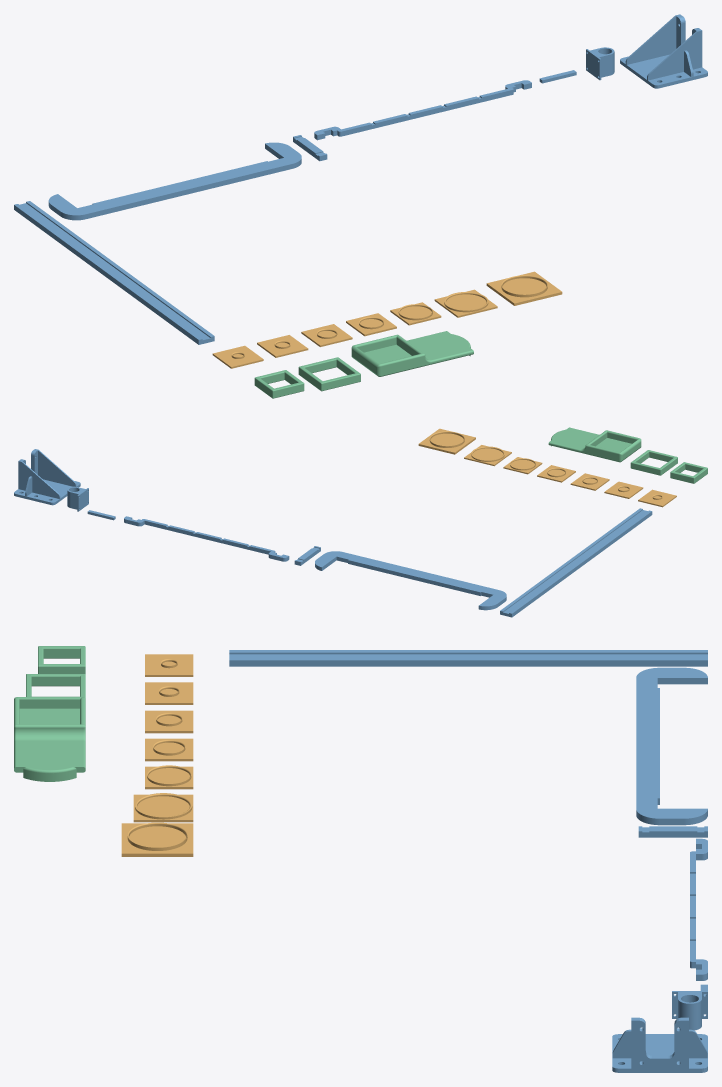
The model's file is wearmachine-parts.glb.
3 renders of one model, top to bottom at view 1: azimuth 30°, elevation 25°; view 2: azimuth 150°, elevation 25°; view 3: azimuth 270°, elevation 25°, orthographic. The views are drawn at different scales.
Visible parts, largest first — view 1: Rail_Holder, Rail, nema17bracket_v2, Benchtop Holder Square, Pusher, Weight Holder 1000g, 40mm Sample Holder, Weight Holder 500g, 30mm Sample Holder, Holder Berring, Weight Holder 200g, Weight Holder 50g (+3 smaller); view 2: Rail_Holder, Rail, nema17bracket_v2, Benchtop Holder Square, Pusher, Weight Holder 1000g, 40mm Sample Holder, Weight Holder 500g, 30mm Sample Holder, Holder Berring, Weight Holder 200g, Weight Holder 50g (+3 smaller); view 3: Rail, Benchtop Holder Square, Rail_Holder, nema17bracket_v2, Weight Holder 1000g, Weight Holder 500g, Pusher, Weight Holder 200g, Weight Holder 50g, Weight Holder 100g, 30mm Sample Holder, Holder Berring (+4 smaller).
Boxes of the visible parts, left/top/right/bottom form: Rail_Holder: left=48, top=142, right=301, bottom=220; Rail: left=14, top=201, right=214, bottom=344; nema17bracket_v2: left=620, top=14, right=707, bottom=88; Benchtop Holder Square: left=351, top=331, right=473, bottom=376; Pusher: left=314, top=80, right=531, bottom=140; Weight Holder 1000g: left=486, top=271, right=562, bottom=305; 40mm Sample Holder: left=298, top=357, right=360, bottom=391; Weight Holder 500g: left=434, top=289, right=497, bottom=317; 30mm Sample Holder: left=254, top=370, right=304, bottom=398; Holder Berring: left=586, top=47, right=614, bottom=80; Weight Holder 200g: left=390, top=302, right=441, bottom=325; Weight Holder 50g: left=301, top=324, right=352, bottom=346; Rail_Holder: left=315, top=551, right=506, bottom=610; Rail: left=500, top=508, right=652, bottom=617; nema17bracket_v2: left=14, top=449, right=80, bottom=505; Benchtop Holder Square: left=548, top=427, right=641, bottom=462; Pusher: left=124, top=516, right=289, bottom=561; Weight Holder 1000g: left=418, top=428, right=475, bottom=454; 40mm Sample Holder: left=630, top=450, right=677, bottom=475; Weight Holder 500g: left=464, top=445, right=511, bottom=466; 30mm Sample Holder: left=670, top=462, right=707, bottom=483; Holder Berring: left=67, top=486, right=88, bottom=511; Weight Holder 200g: left=503, top=457, right=542, bottom=474; Weight Holder 50g: left=570, top=473, right=609, bottom=490; Rail: left=229, top=650, right=707, bottom=666; Benchtop Holder Square: left=14, top=697, right=85, bottom=781; Rail_Holder: left=636, top=667, right=707, bottom=825; nema17bracket_v2: left=612, top=1017, right=707, bottom=1072; Weight Holder 1000g: left=121, top=822, right=193, bottom=856; Weight Holder 500g: left=133, top=793, right=193, bottom=822; Pusher: left=690, top=838, right=707, bottom=980; Weight Holder 200g: left=145, top=765, right=193, bottom=789; Weight Holder 50g: left=145, top=710, right=193, bottom=733; Weight Holder 100g: left=145, top=738, right=193, bottom=761; 30mm Sample Holder: left=38, top=646, right=85, bottom=673; Holder Berring: left=672, top=991, right=707, bottom=1030.
Bounding box in the file's own units: 0.8232 × 0.048 × 0.58.
